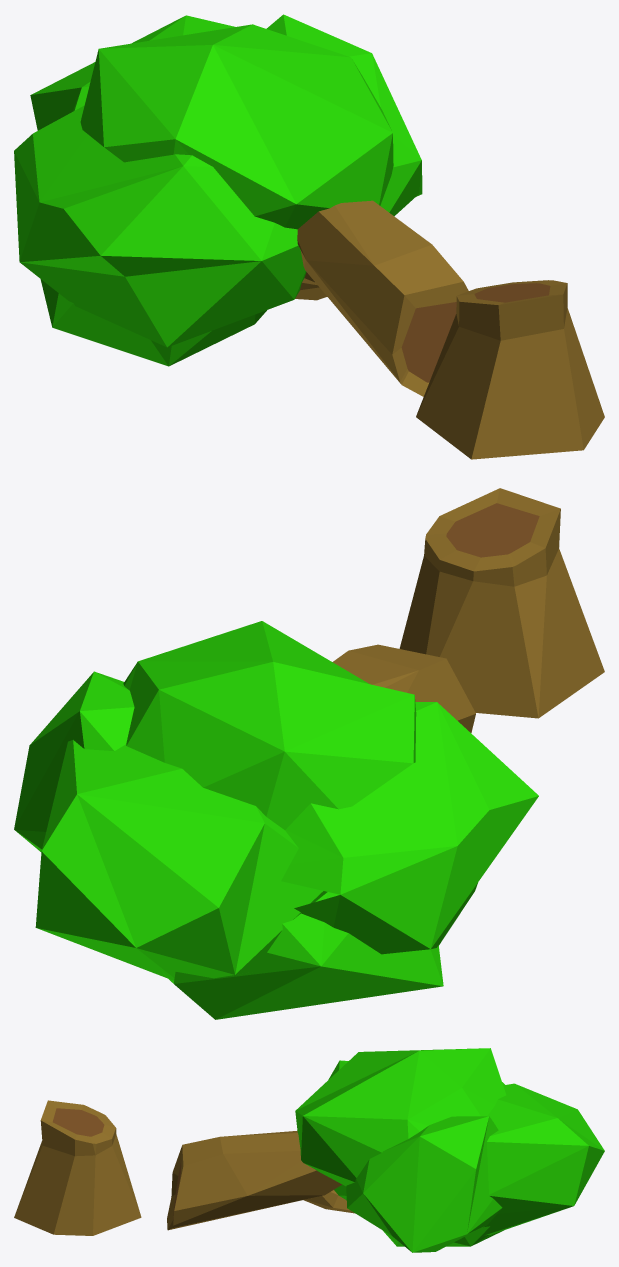
Rendered from Tree#17.fbx.
3 views of the same model, one above another, from view 1: azimuth 30°, elevation 25°; view 2: azimuth 150°, elevation 25°; view 3: azimuth 270°, elevation 25° (orthographic). The views are drawn at different scales.
Parts seen in each view (by area): view 1: Tree#17; view 2: Tree#17; view 3: Tree#17.
Part boxes in pixels (x1,y1,x2,y2): Tree#17: (14, 14, 604, 459); Tree#17: (14, 488, 604, 1019); Tree#17: (14, 1048, 604, 1252).
Bounding box in the file's own units: 405 × 287 × 799.
